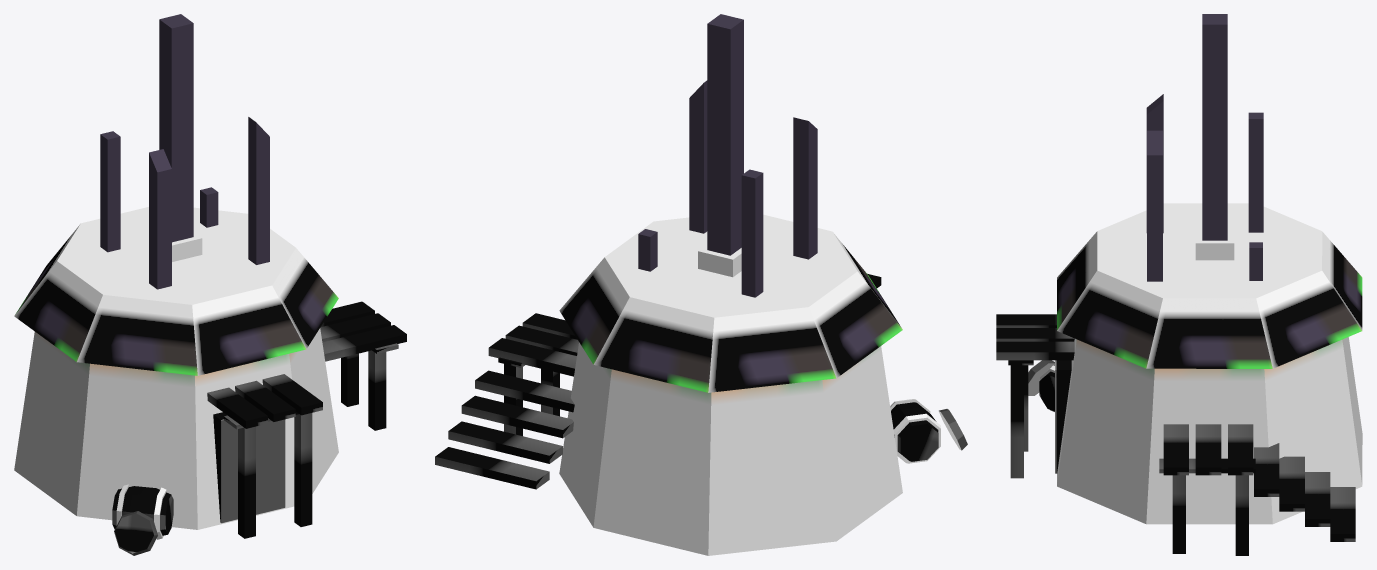
The model's file is FarmPhase01.fbx.
3 views of the same model, side by side, from view 1: azimuth 30°, elevation 25°; view 2: azimuth 150°, elevation 25°; view 3: azimuth 270°, elevation 25° (orthographic). The views are drawn at different scales.
Visible parts, largest first — view 1: FarmPhase01; view 2: FarmPhase01; view 3: FarmPhase01.
Boxes of the visible parts, x1,y1,x2,y2 form: FarmPhase01: [14, 14, 406, 555]; FarmPhase01: [435, 14, 967, 555]; FarmPhase01: [996, 14, 1362, 555].
Size of the model in its own units: 3.03 by 3.64 by 2.74.
